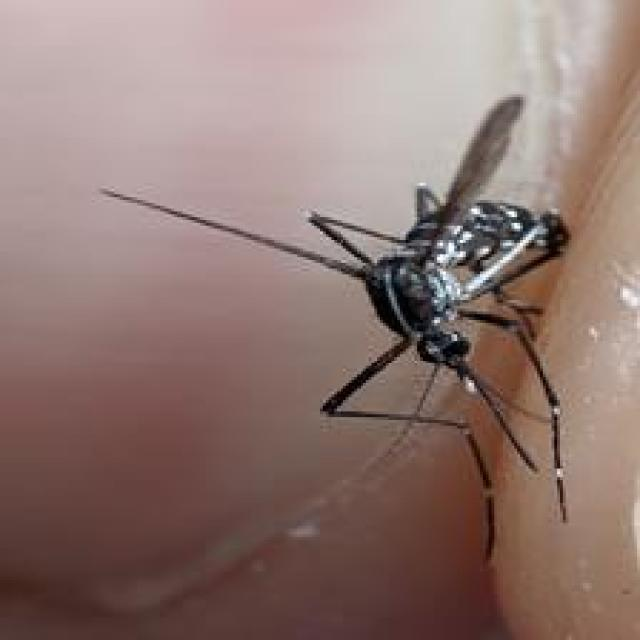Aedes albopictus: (97, 93, 574, 561)
